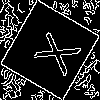X: (25, 25, 82, 77)
